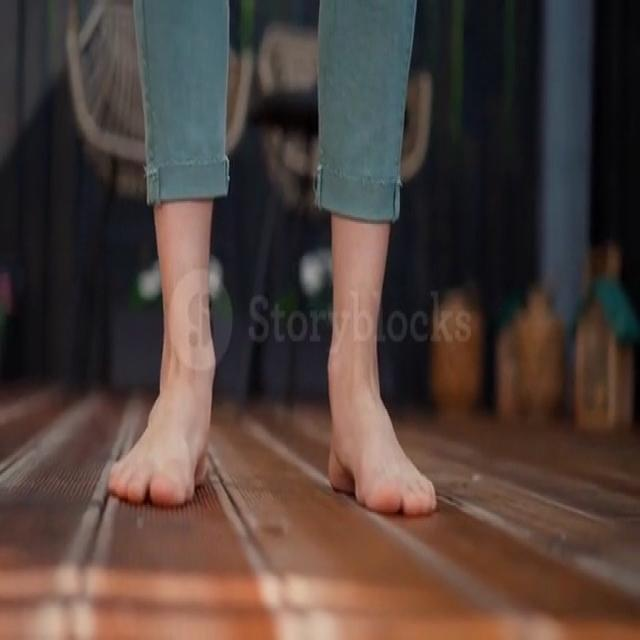No_Shoe: (106, 302, 220, 526), (324, 350, 439, 518)
